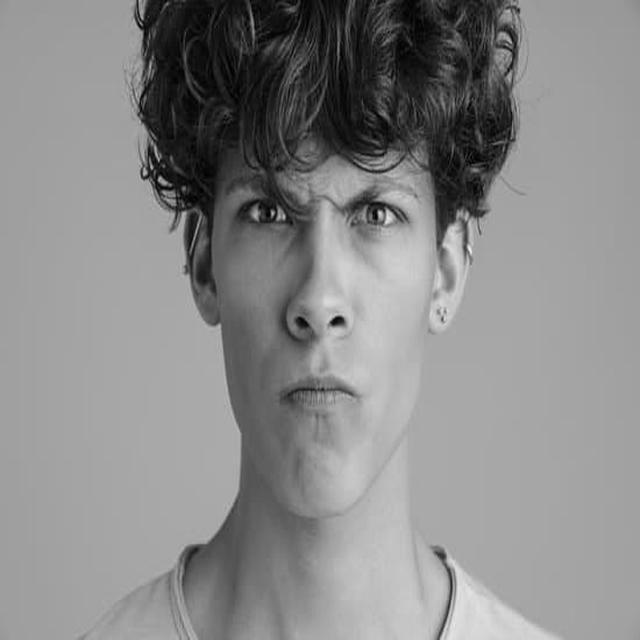Angry: (213, 99, 438, 519)
